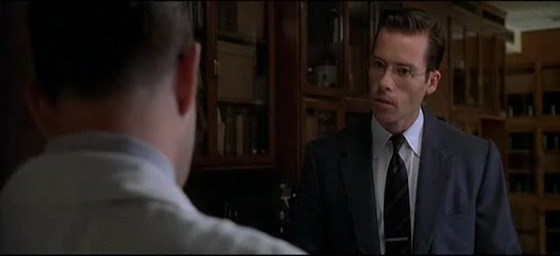face: (369, 32, 427, 124)
ms: (1, 1, 560, 256)
ots: (1, 1, 311, 254)
person: (275, 10, 547, 256)
